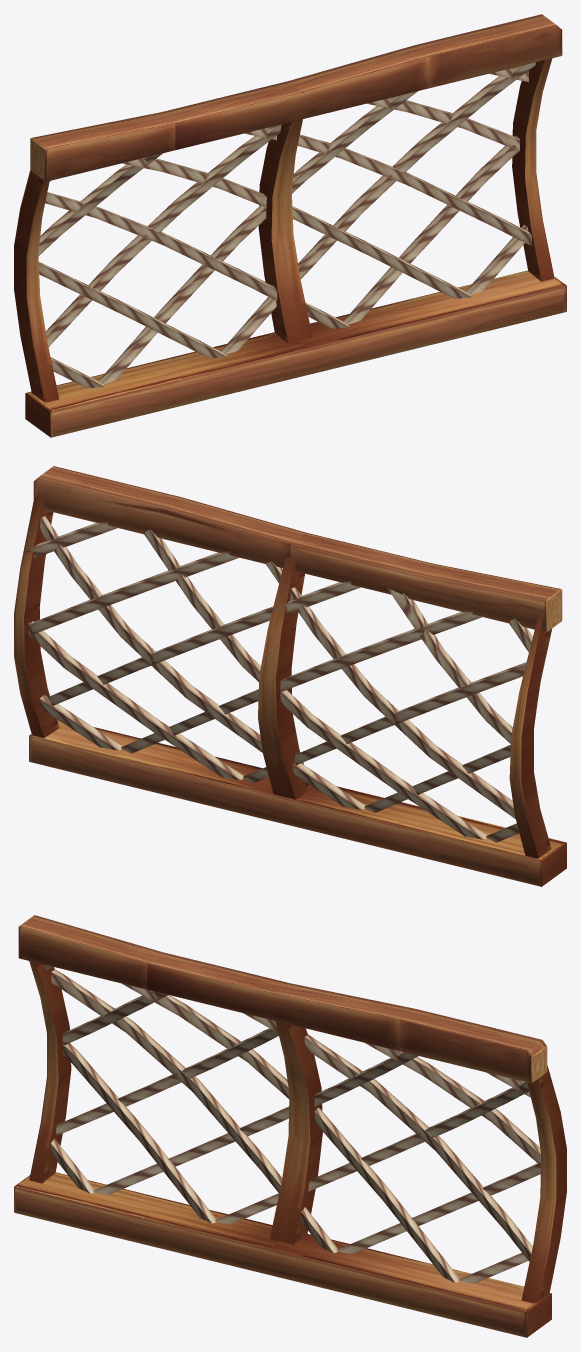
File: rope-rail.fbx
3 renders of one model, top to bottom at view 1: azimuth 30°, elevation 25°; view 2: azimuth 150°, elevation 25°; view 3: azimuth 330°, elevation 25°, orthographic.
Visible parts, largest first — view 1: lowRailHalf44; view 2: lowRailHalf44; view 3: lowRailHalf44.
Boxes of the visible parts, left/top/right/bottom form: lowRailHalf44: left=14, top=14, right=566, bottom=437; lowRailHalf44: left=14, top=466, right=566, bottom=886; lowRailHalf44: left=14, top=915, right=566, bottom=1337.
Size of the model in its own units: 169 by 89 by 23.88.
Materials: 1 (1 with a texture image).
